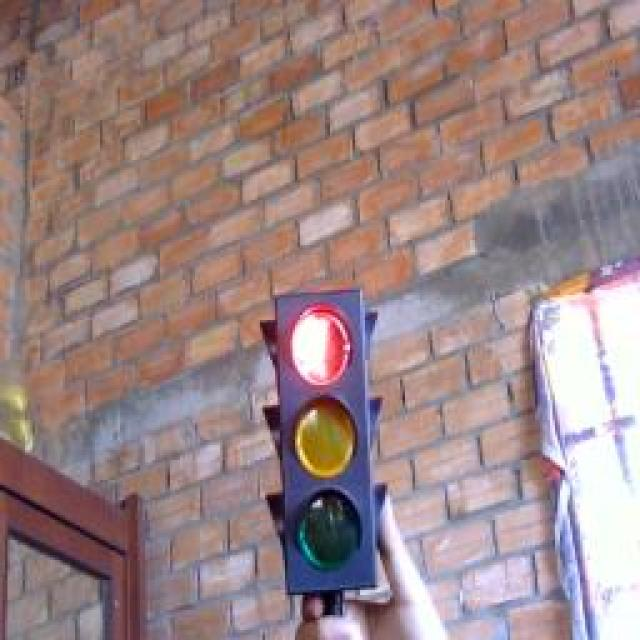-: (284, 300, 366, 400)
